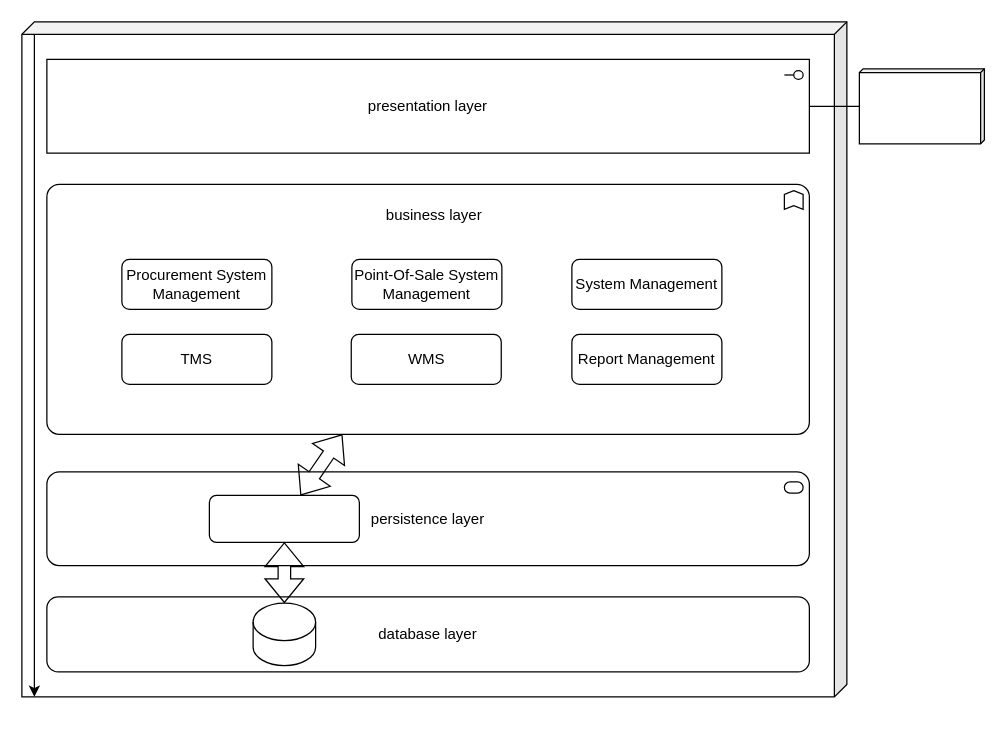
Some shapes in this 1006 by 729 pixel diagram are drawn without their labels. Each missing label, with the centre of its shape:
DAO: the point at 283,518
database: the point at 284,634
user interface: the point at 921,106
